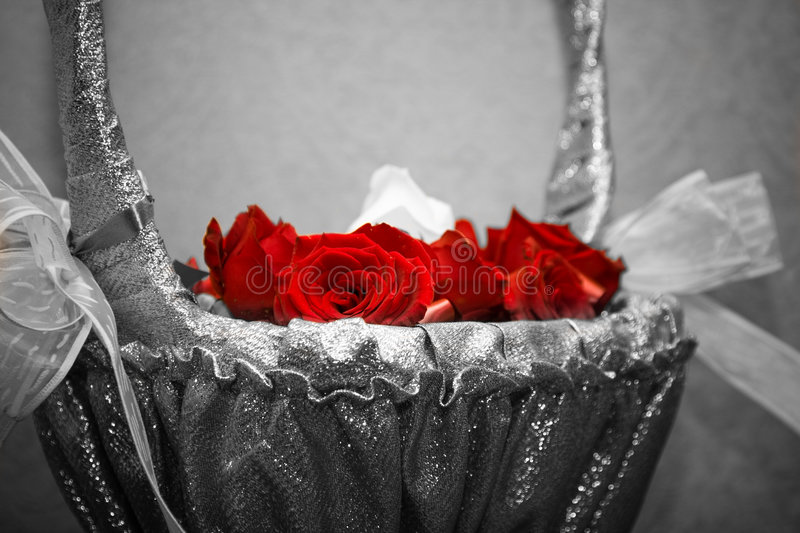RedRose: (501, 207, 616, 320), (282, 245, 419, 320), (183, 216, 289, 301), (439, 235, 507, 314)
